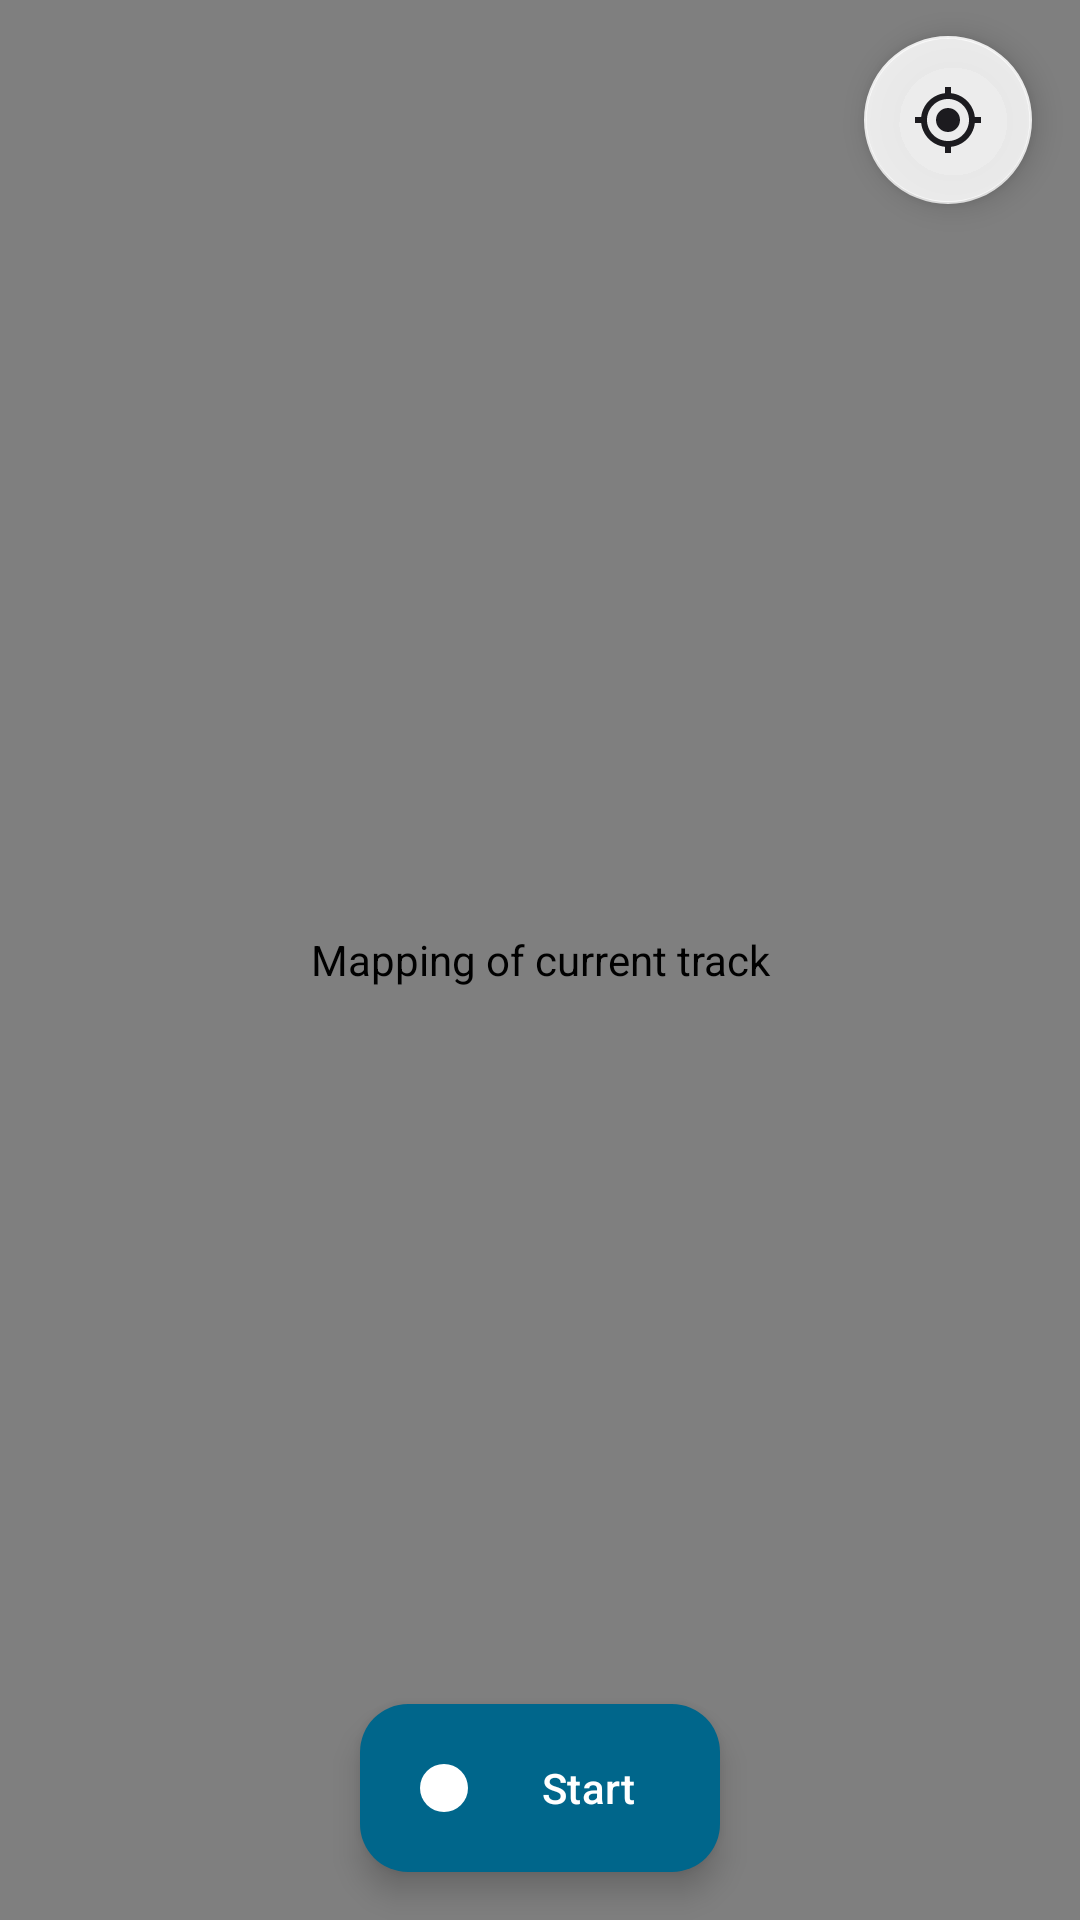

Point at icon controls on the screen. Image size 1080x1920, points as (x=x, y=y).
Center on current location: (x=948, y=120)
